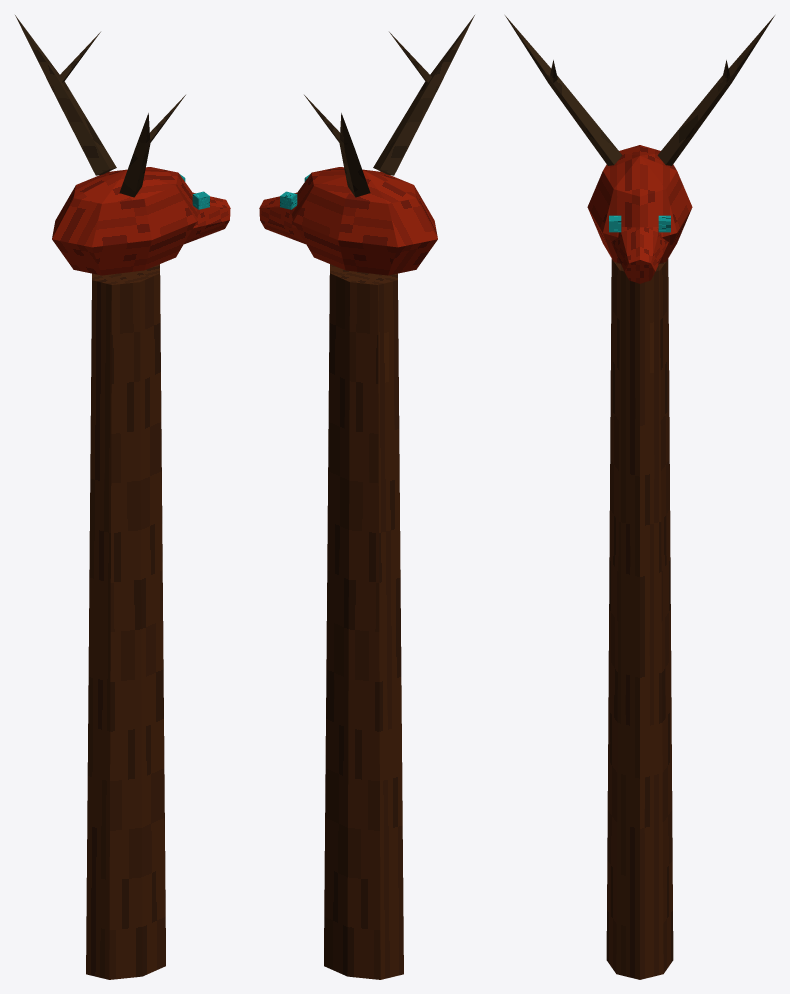
Rendered from ciervo.glb.
3 renders of one model, left to right at view 1: azimuth 30°, elevation 25°; view 2: azimuth 150°, elevation 25°; view 3: azimuth 270°, elevation 25°, orthographic.
Visible parts, largest first — view 1: poste, cabeza, astas, hocico; view 2: poste, cabeza, astas, hocico; view 3: poste, cabeza, astas, hocico.
Boxes of the visible parts, x1,y1,x2,y2 form: poste: [86, 264, 165, 979]; cabeza: [52, 167, 197, 275]; astas: [15, 15, 185, 197]; hocico: [184, 192, 230, 244]; poste: [324, 264, 403, 979]; cabeza: [292, 167, 437, 275]; astas: [304, 15, 474, 197]; hocico: [259, 192, 305, 244]; poste: [606, 259, 673, 979]; cabeza: [587, 145, 692, 263]; astas: [505, 15, 774, 165]; hocico: [611, 227, 668, 283].
Bounding box in the file's own units: 0.6 × 3 × 0.8.
1 material, 1 textured.
